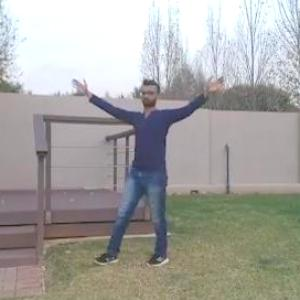takeoff: (88, 73, 255, 274)
